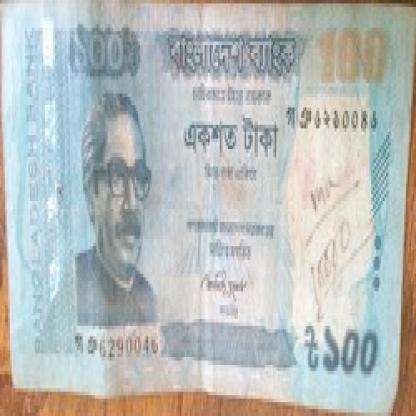one hundred taka: (313, 24, 393, 94), (320, 315, 386, 385), (69, 24, 136, 80)
